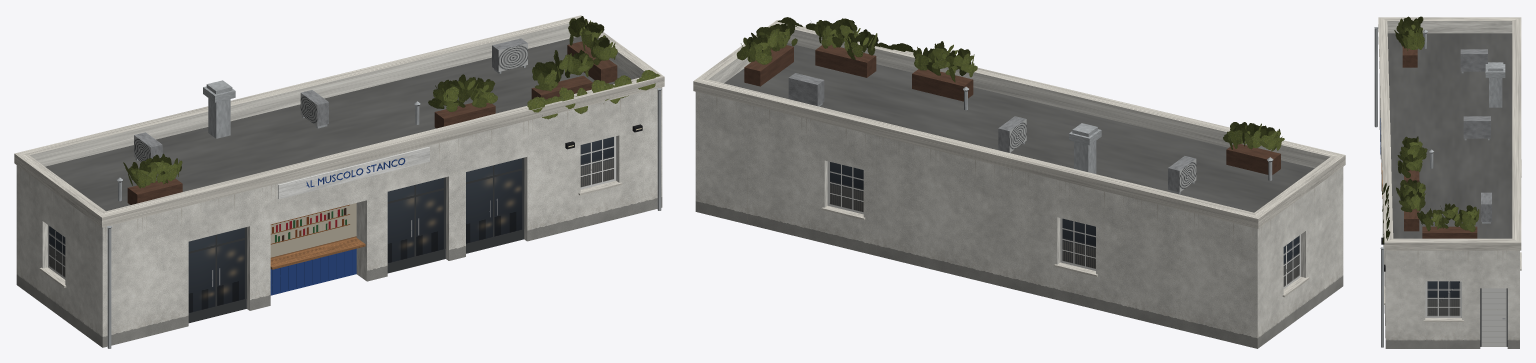
File: SM_Molo_Edificio_C_v2.fbx
3 renders of one model, left to right at view 1: azimuth 30°, elevation 25°; view 2: azimuth 150°, elevation 25°; view 3: azimuth 270°, elevation 25°, orthographic. The views are drawn at different scales.
Visible parts, largest first — view 1: SM_Molo_Edificio_C_v2; view 2: SM_Molo_Edificio_C_v2; view 3: SM_Molo_Edificio_C_v2.
Part boxes in pixels (left/top/right/bottom): SM_Molo_Edificio_C_v2: left=14, top=15, right=664, bottom=348; SM_Molo_Edificio_C_v2: left=693, top=17, right=1345, bottom=348; SM_Molo_Edificio_C_v2: left=1374, top=16, right=1521, bottom=348.
Size of what is drawn, in the model's own units: 1752 by 484 by 485.
2 materials, 2 textured.
